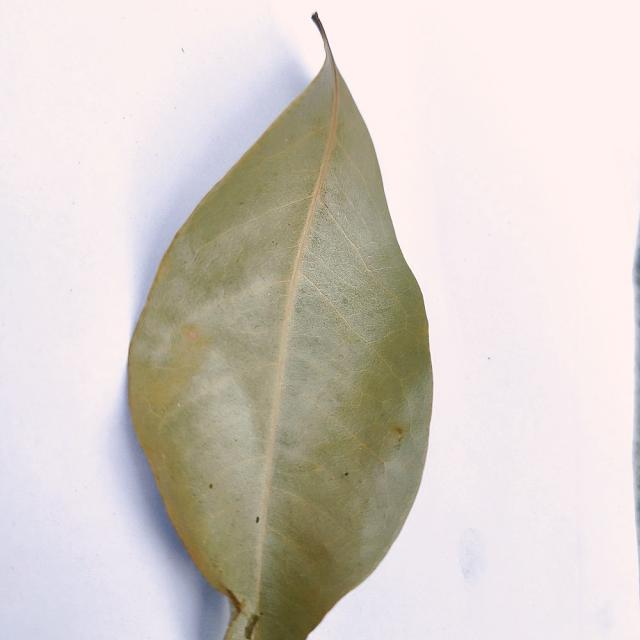Dry_Leaf-Lychee: (124, 53, 435, 639)
